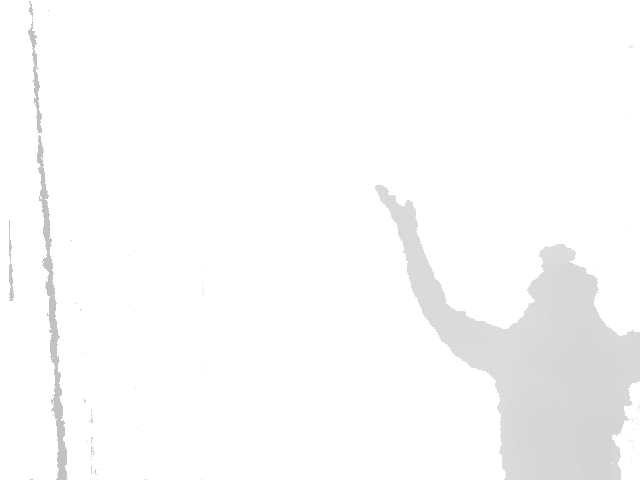hand: (373, 182, 419, 229)
head: (523, 244, 600, 335)
person: (371, 180, 640, 479)
